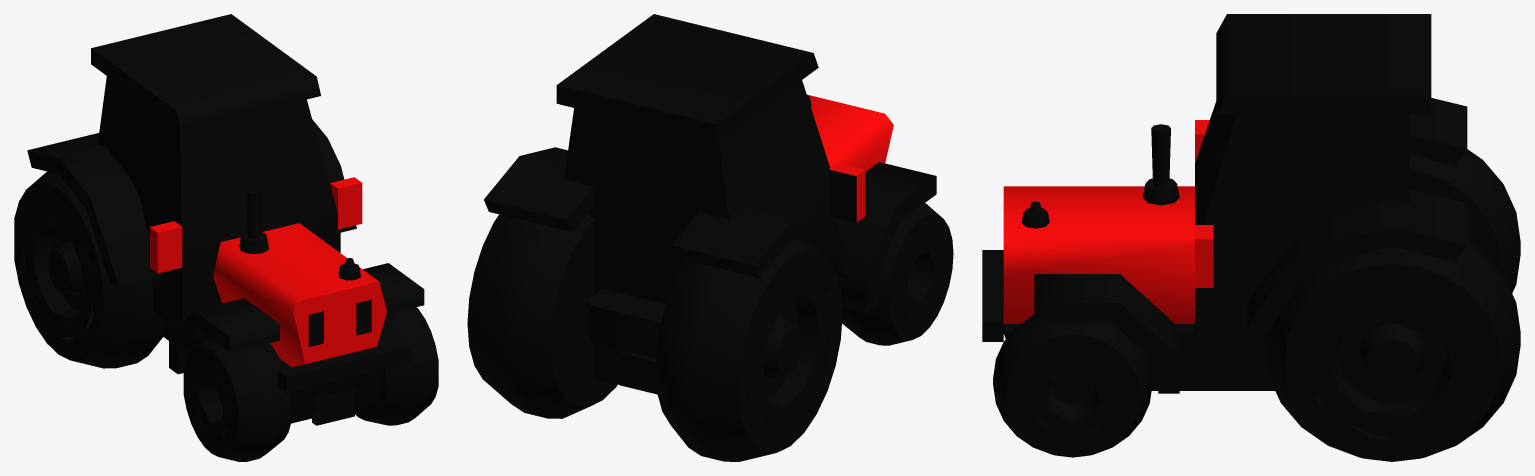
File: tractor.glb
3 renders of one model, left to right at view 1: azimuth 30°, elevation 25°; view 2: azimuth 150°, elevation 25°; view 3: azimuth 270°, elevation 25°, orthographic. The views are drawn at different scales.
Visible parts, largest first — view 1: body, wheel-back-right, wheel-front-right, wheel-front-left; view 2: body, wheel-back-right, wheel-back-left, wheel-front-right; view 3: body, wheel-back-left, wheel-front-left, wheel-back-right.
Boxes of the visible parts, box(x1,y1,x2,y2) form: body: box(27, 14, 424, 425); wheel-back-right: box(14, 171, 170, 368); wheel-front-right: box(183, 337, 291, 461); wheel-front-left: box(355, 307, 438, 425); body: box(484, 14, 936, 394); wheel-back-right: box(655, 237, 842, 461); wheel-back-left: box(467, 213, 617, 418); wheel-front-right: box(842, 203, 953, 345); body: box(982, 14, 1467, 393); wheel-back-left: box(1263, 240, 1520, 461); wheel-front-left: box(993, 315, 1152, 457); wheel-back-right: box(1410, 149, 1520, 292).
Bounding box in the file's own units: 1.34 × 1.6 × 2.2.
1 material, 1 textured.
